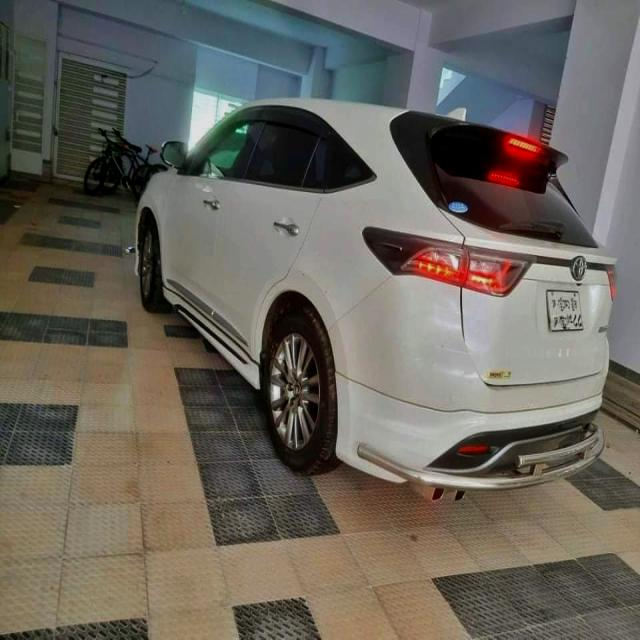white: (134, 122, 611, 491)
